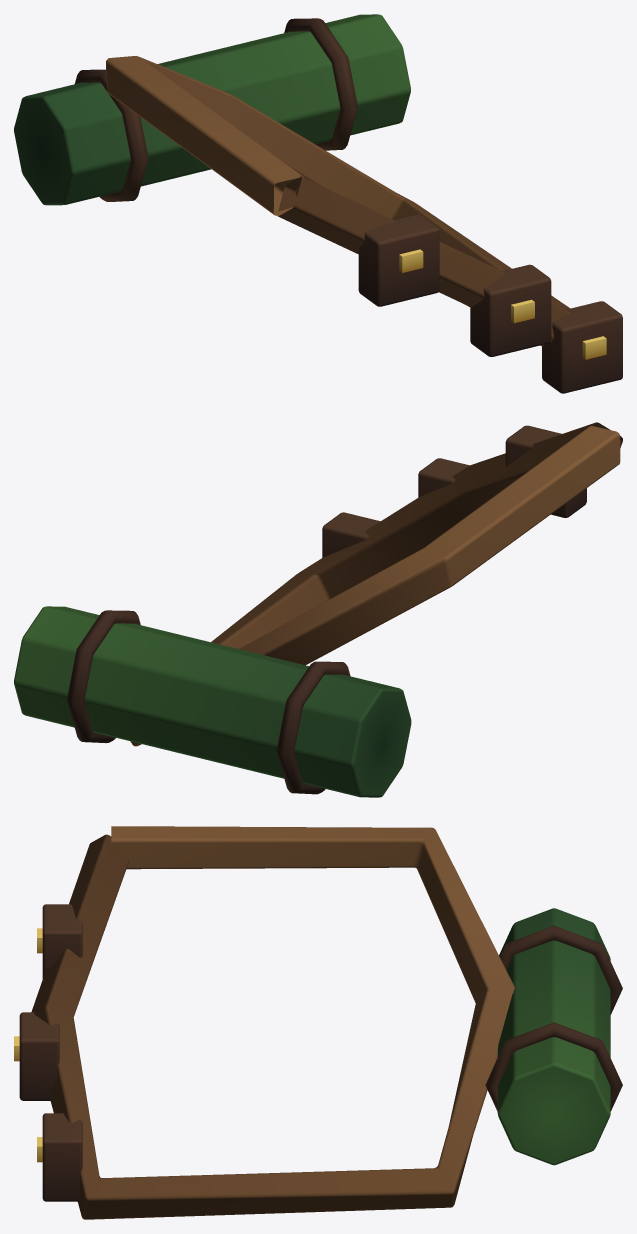
Rendered from travelers_vest.glb.
The picture shows the model from 3 angles, top to bottom: view 1: azimuth 30°, elevation 25°; view 2: azimuth 150°, elevation 25°; view 3: azimuth 270°, elevation 25°; orthographic projection. The views are drawn at different scales.
Parts seen in each view (by area): view 1: travelers_vest, travelers_vest_trim; view 2: travelers_vest; view 3: travelers_vest.
Boxes of the visible parts, x1=… form: travelers_vest: x1=14, y1=14, x2=622, y2=393; travelers_vest_trim: x1=399, y1=249, x2=606, y2=359; travelers_vest: x1=14, y1=422, x2=622, y2=797; travelers_vest: x1=19, y1=826, x2=622, y2=1219.
Bounding box in the file's own units: 1.31 × 0.9578 × 2.13.
